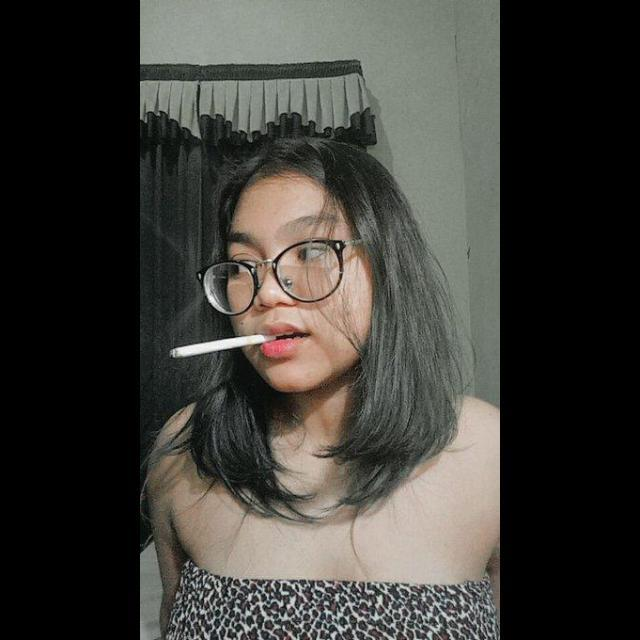rokok: (168, 329, 282, 361)
